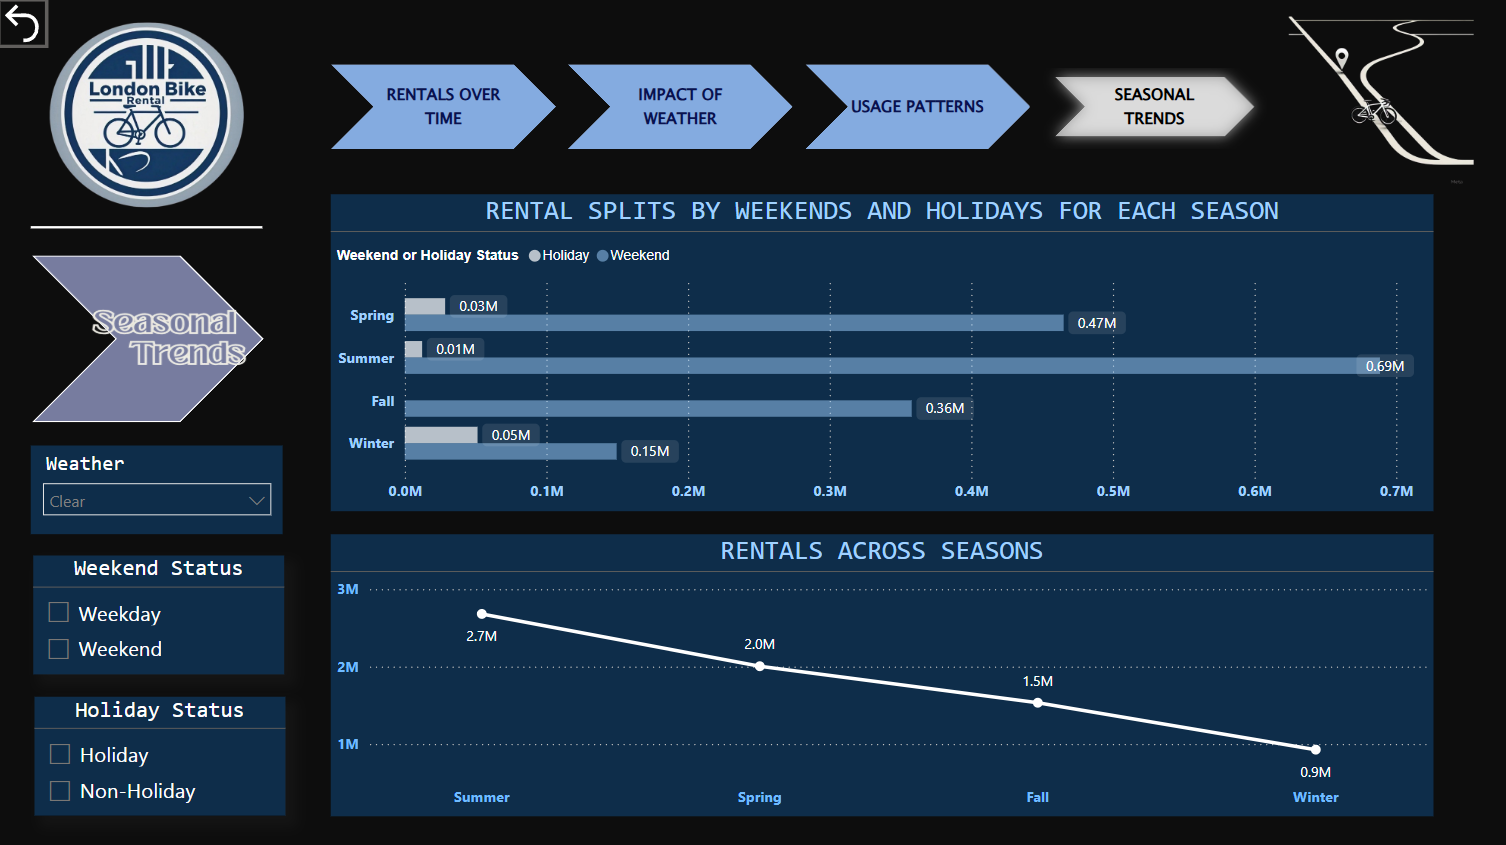

The dashboard page shown, as its layout file describes it:
{"tool":"powerbi","page":{"name":"SEASONAL TRENDS","canvas":[1280,720],"ordinal":3},"visuals":[{"type":"image","box":[29.1,15.6,196.4,166.3],"z":0},{"type":"image","box":[1068,0,212,166.3],"z":1000},{"type":"shape","box":[29.1,111.2,196.4,166.3],"z":2000},{"type":"shape","box":[30.1,218.2,196.4,141.3],"z":3000},{"type":"lineChart","title":"RENTALS ACROSS SEASONS","fields":{"Y":["Sum(london_merged.cnt)"],"Category":["london_merged.Season Name"]},"box":[282.6,454.7,934.9,239.5],"z":4000},{"type":"clusteredBarChart","title":"RENTAL SPLITS BY WEEKENDS AND HOLIDAYS FOR EACH SEASON","fields":{"Y":["Sum(london_merged.cnt)"],"Category":["london_merged.Season Name"],"Series":["london_merged.Weekend or Holiday Status"]},"box":[282.6,166.3,934.9,268.6],"z":5000},{"type":"slicer","fields":{"Values":["london_merged.Weather Description"]},"box":[29.1,379.1,214,75.6],"z":6000},{"type":"slicer","title":"Weekend Status","fields":{"Values":["london_merged.Weekend Status"]},"box":[30.2,473.3,212.8,101.2],"z":7000},{"type":"slicer","title":"Holiday Status","fields":{"Values":["london_merged.Holiday Status"]},"box":[31.4,593,212.8,101.2],"z":8000},{"type":"pageNavigator","title":"RENTALS OVER TIME","box":[282.6,55.8,796.5,72.1],"z":8001},{"type":"image","box":[0,218.6,274.4,208.1],"z":8002},{"type":"actionButton","box":[0,0,43.6,42.6],"z":8003}]}

Visuals, with their boxes in screenshot pixels (x1, y1, x2, y2), scaled from the page's 1280x720 canvas onto the 1506x845 screenshot:
image: 34, 18, 265, 213
image: 1257, 0, 1505, 195
shape: 34, 131, 265, 326
shape: 35, 256, 266, 422
"RENTALS ACROSS SEASONS" lineChart: 332, 534, 1432, 815
"RENTAL SPLITS BY WEEKENDS AND HOLIDAYS FOR EACH SEASON" clusteredBarChart: 332, 195, 1432, 510
slicer - london_merged.Weather Description: 34, 445, 286, 534
"Weekend Status" slicer: 36, 555, 286, 674
"Holiday Status" slicer: 37, 696, 287, 815
"RENTALS OVER TIME" pageNavigator: 332, 65, 1270, 150
image: 0, 257, 323, 501
actionButton: 0, 0, 51, 50
